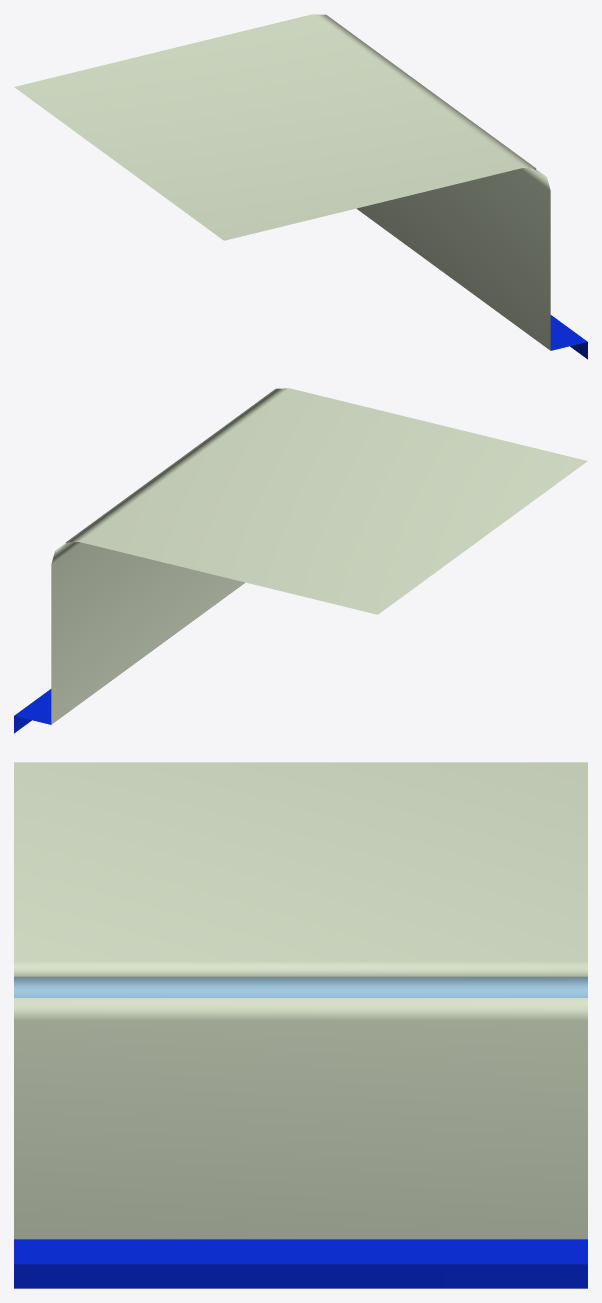
The model's file is Wall_Open_Straight.fbx.
3 renders of one model, top to bottom at view 1: azimuth 30°, elevation 25°; view 2: azimuth 150°, elevation 25°; view 3: azimuth 270°, elevation 25°, orthographic. The views are drawn at different scales.
Visible parts, largest first — view 1: Wall_Open_Straight; view 2: Wall_Open_Straight; view 3: Wall_Open_Straight.
Part boxes in pixels (x1=…): Wall_Open_Straight: x1=14, y1=14, x2=587, y2=359; Wall_Open_Straight: x1=14, y1=388, x2=587, y2=733; Wall_Open_Straight: x1=14, y1=762, x2=587, y2=1288.
Size of the model in its own units: 100 by 54.53 by 100.
